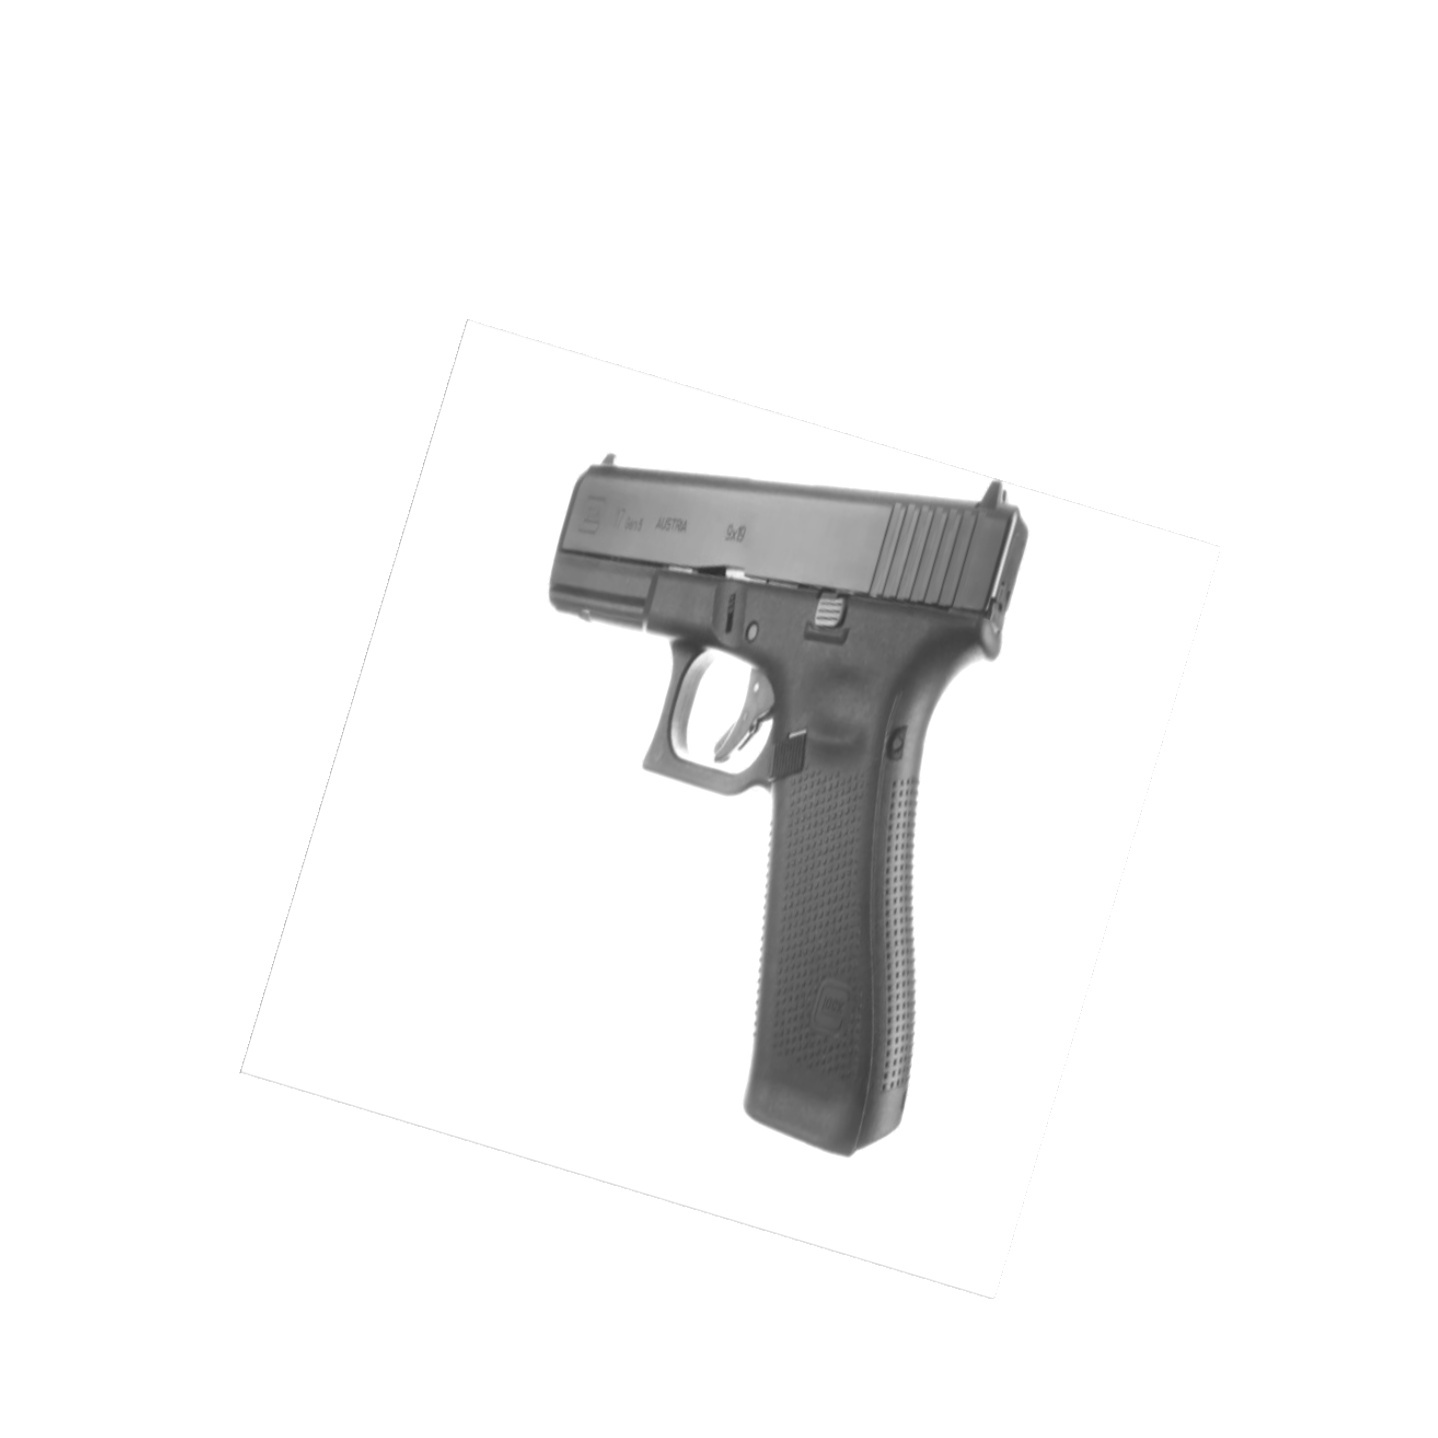gun: (545, 442, 1039, 1173)
